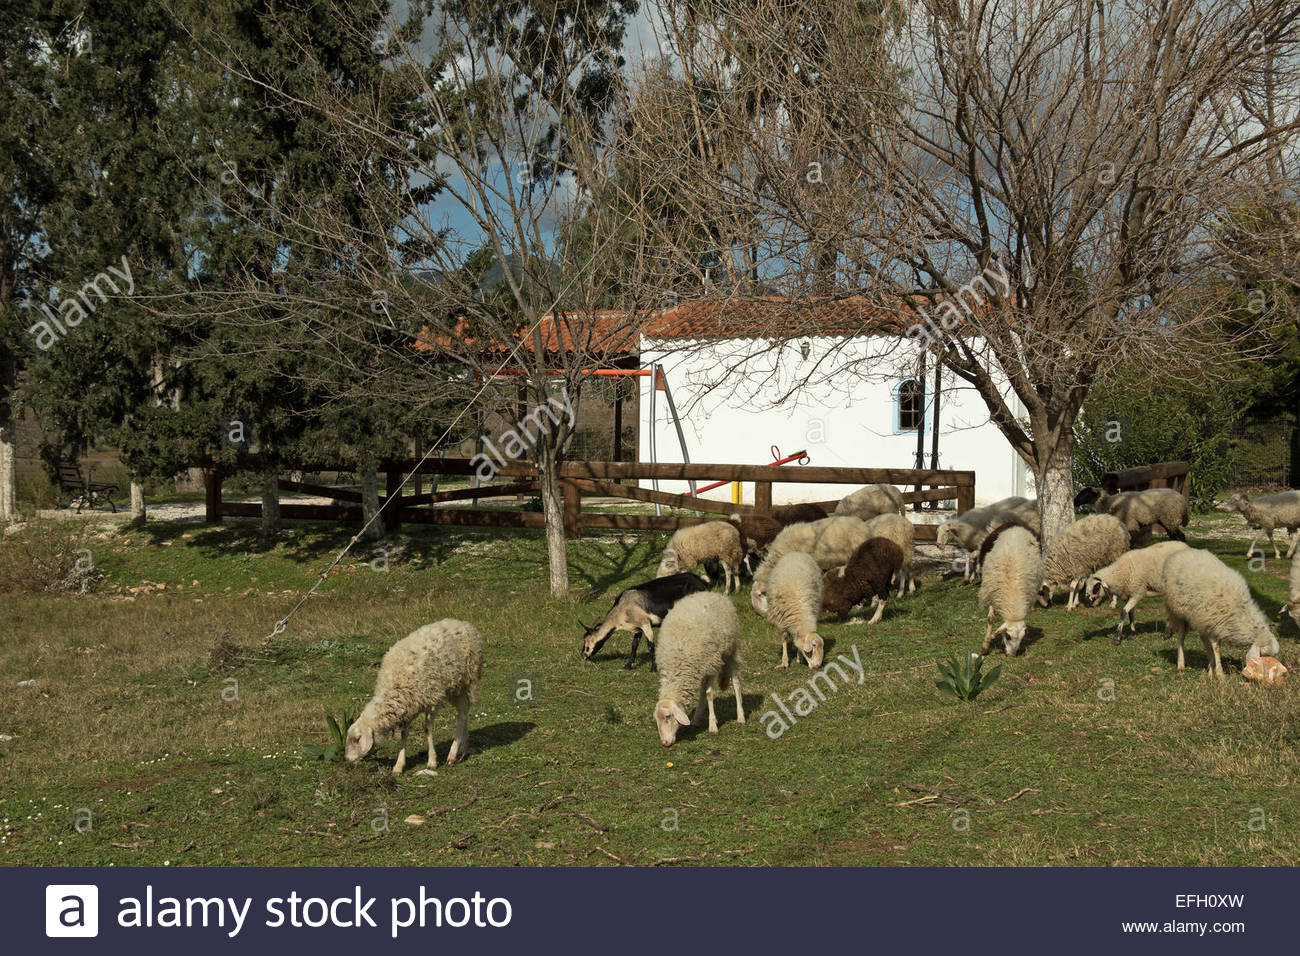sheep: (336, 615, 495, 773), (1171, 548, 1300, 700), (660, 582, 751, 759), (575, 562, 693, 682), (1040, 482, 1136, 622), (966, 526, 1053, 670), (755, 553, 833, 708), (807, 470, 936, 559), (951, 471, 1047, 562), (1096, 531, 1186, 628), (827, 530, 922, 620), (1142, 451, 1209, 542), (702, 511, 764, 573)
